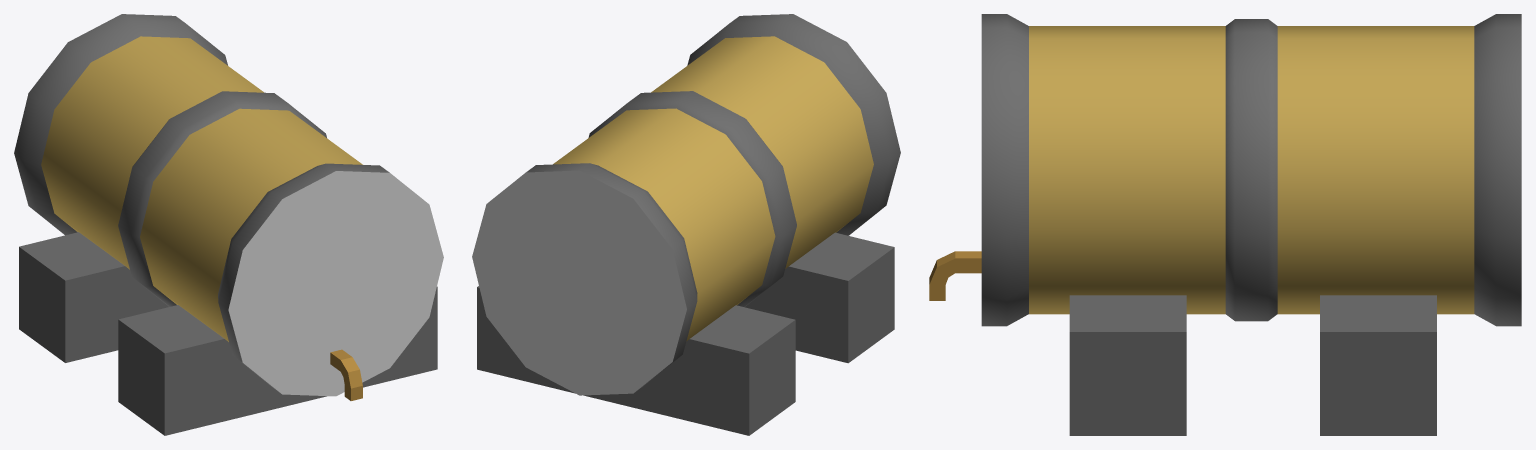
The model's file is Gas_Tank_3.fbx.
The picture shows the model from 3 angles, left to right: view 1: azimuth 30°, elevation 25°; view 2: azimuth 150°, elevation 25°; view 3: azimuth 270°, elevation 25°; orthographic projection. The views are drawn at different scales.
Visible parts, largest first — view 1: Gas_Tank_3; view 2: Gas_Tank_3; view 3: Gas_Tank_3.
Part boxes in pixels (x1,y1,x2,y2): Gas_Tank_3: [14, 14, 443, 435]; Gas_Tank_3: [472, 14, 900, 435]; Gas_Tank_3: [929, 14, 1521, 435].
Bounding box in the file's own units: 1.69 × 1.52 × 2.52.
